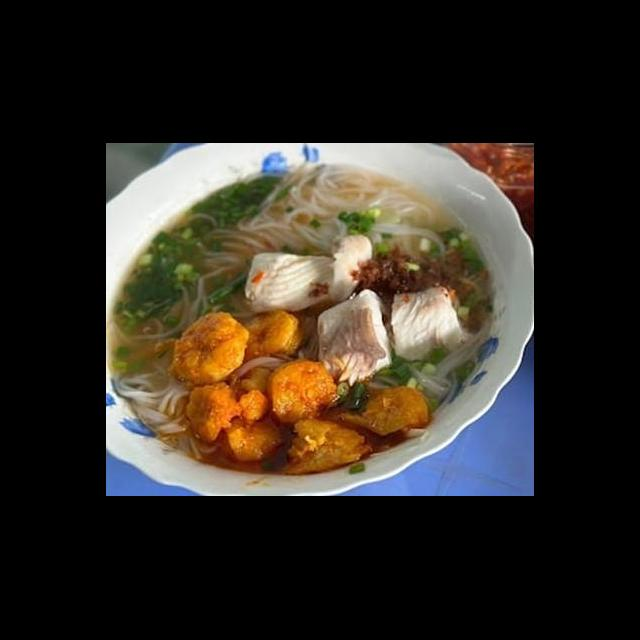bun: (202, 158, 467, 264), (108, 358, 195, 448), (401, 321, 495, 398)
bun ca: (122, 169, 507, 482)
ca: (239, 226, 377, 316), (311, 286, 394, 394), (385, 284, 470, 362)
tom: (186, 380, 287, 464), (166, 310, 252, 388), (276, 414, 376, 479), (331, 382, 435, 442), (263, 356, 342, 426), (237, 306, 308, 362)
